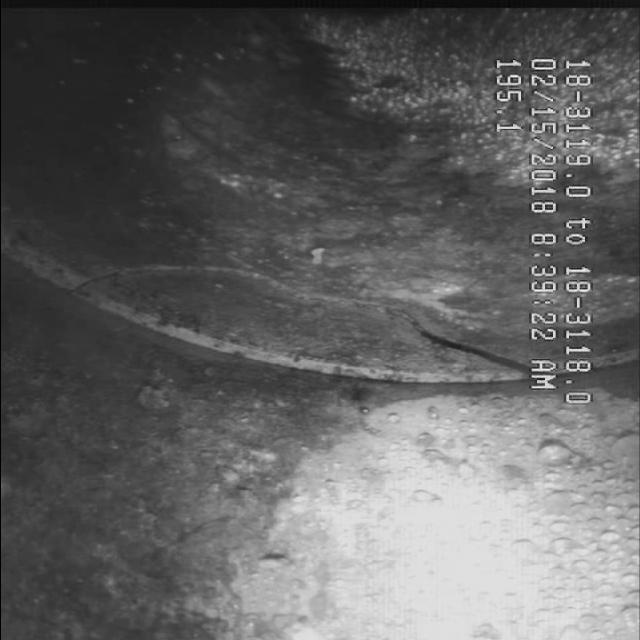Crack: (83, 254, 490, 400)
